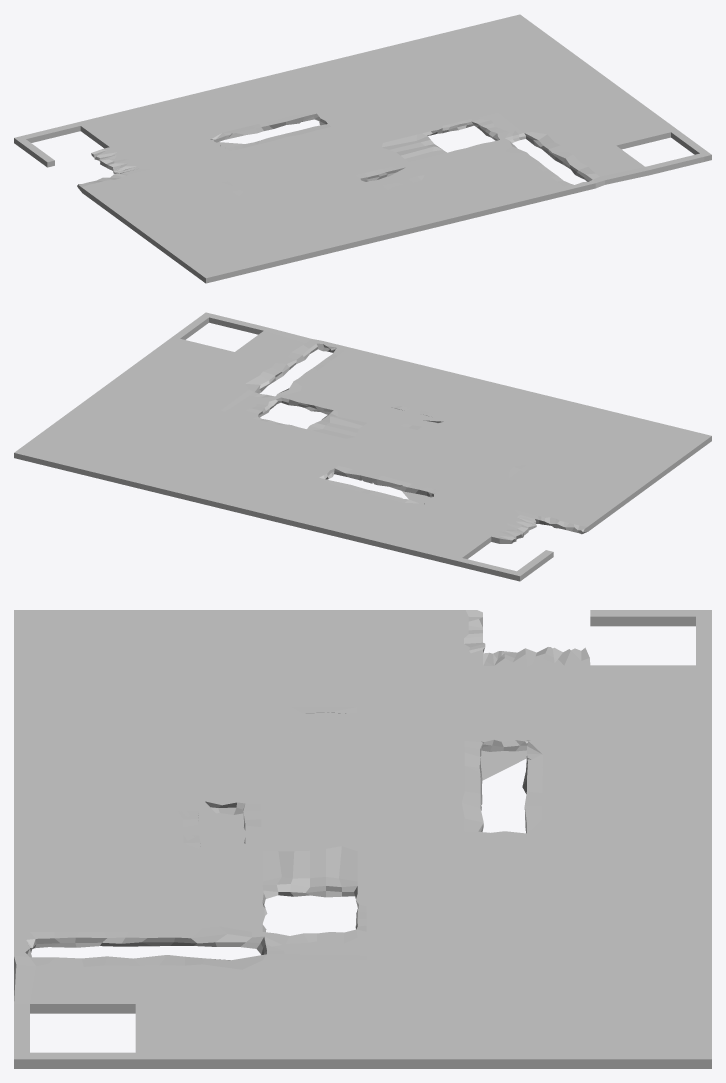
The model's file is Fixed Mesh 12.fbx.
The picture shows the model from 3 angles, top to bottom: view 1: azimuth 30°, elevation 25°; view 2: azimuth 150°, elevation 25°; view 3: azimuth 270°, elevation 25°; orthographic projection. The views are drawn at different scales.
Visible parts, largest first — view 1: Floor.001; view 2: Floor.001; view 3: Floor.001.
Boxes of the visible parts, bbox=[...] form: Floor.001: bbox=[14, 14, 711, 283]; Floor.001: bbox=[14, 312, 711, 581]; Floor.001: bbox=[14, 610, 711, 1068].
Bounding box in the file's own units: 4020 × 63.19 × 2640.
